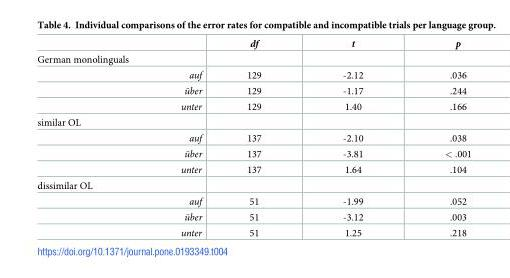table: (36, 36, 470, 238)
table column: (36, 36, 223, 238), (301, 36, 403, 238), (223, 36, 301, 238), (403, 36, 470, 238)
table column header: (36, 36, 470, 51)
table projected row header: (36, 51, 470, 66), (36, 114, 470, 129), (36, 178, 470, 192)
table row: (36, 161, 470, 178), (36, 66, 470, 82), (36, 82, 470, 98), (36, 98, 470, 114), (36, 129, 470, 145), (36, 145, 470, 161), (36, 192, 470, 208), (36, 208, 470, 224), (36, 36, 470, 51), (36, 51, 470, 66), (36, 114, 470, 129), (36, 178, 470, 192), (36, 224, 470, 238)
